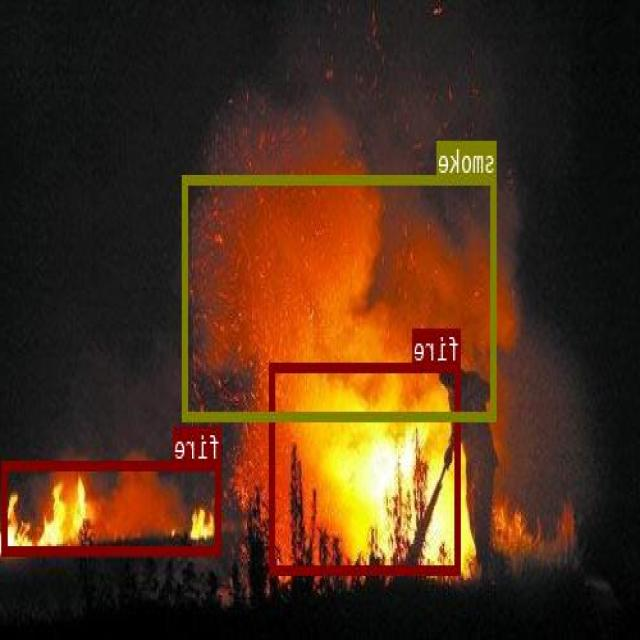fire: (270, 362, 461, 572), (3, 460, 222, 553)
smoke: (183, 174, 498, 420)
